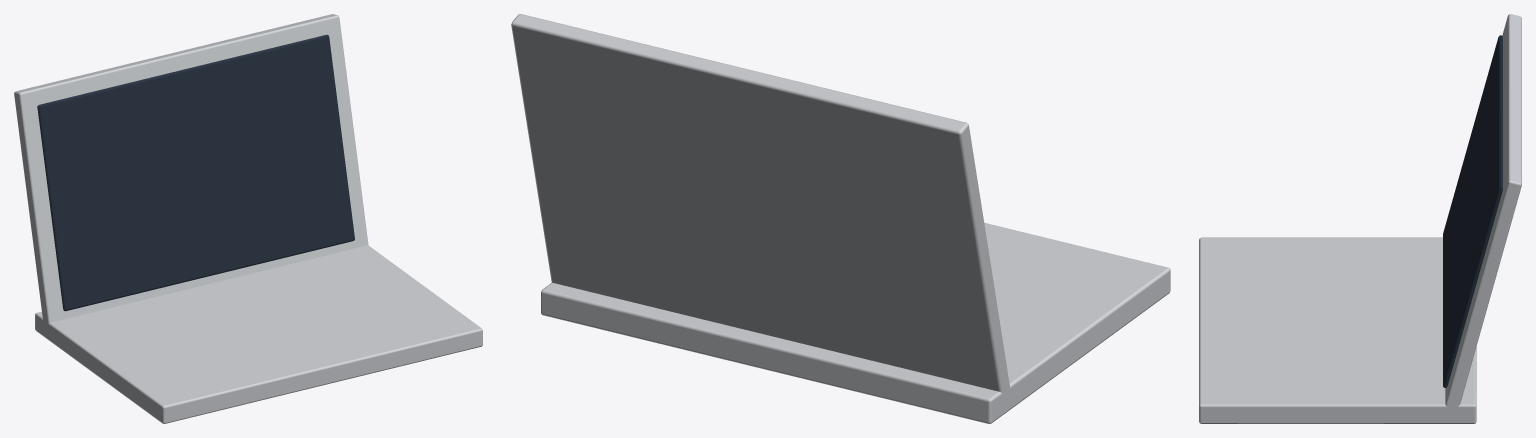
File: SM_Laptop.fbx
3 renders of one model, left to right at view 1: azimuth 30°, elevation 25°; view 2: azimuth 150°, elevation 25°; view 3: azimuth 270°, elevation 25°, orthographic. The views are drawn at different scales.
Parts seen in each view (by area): view 1: SM_Laptop; view 2: SM_Laptop; view 3: SM_Laptop.
Boxes of the visible parts, <box> form: SM_Laptop: <box>14,14,482,423</box>; SM_Laptop: <box>511,14,1170,423</box>; SM_Laptop: <box>1199,14,1521,423</box>.
Size of the model in its own units: 0.33 by 0.2226 by 0.2675.
